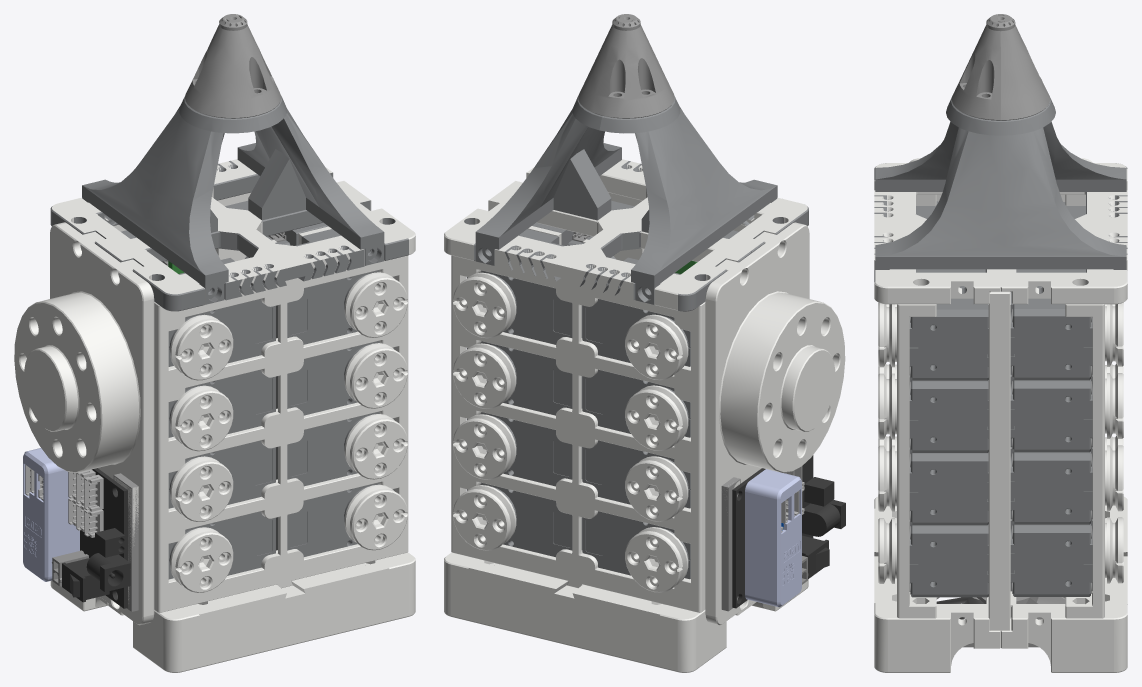
File: assembly-optimized.glb
3 renders of one model, left to right at view 1: azimuth 30°, elevation 25°; view 2: azimuth 150°, elevation 25°; view 3: azimuth 270°, elevation 25°, orthographic.
Visible parts, largest first — view 1: servos, franka_adapter_wu2d2, transition_frame_v4, front_plate, fan mount, SOLID, vertebra_base_v5; view 2: servos, franka_adapter_wu2d2, front_plate v2(Mirror), transition_frame_v4, fan mount, SOLID, vertebra_base_v5; view 3: servos, transition_frame_v4, fan mount, SOLID, vertebra_base_v5, front_plate, front_plate v2(Mirror), base_plate v8(Mirror), base_plate.
Boxes of the visible parts, <box> form: servos: <box>121,200,407,592</box>; franka_adapter_wu2d2: <box>14,222,154,625</box>; transition_frame_v4: <box>50,95,408,311</box>; front_plate: <box>154,255,408,612</box>; fan mount: <box>50,552,415,672</box>; SOLID: <box>52,159,415,303</box>; vertebra_base_v5: <box>185,14,281,118</box>; servos: <box>453,200,738,592</box>; franka_adapter_wu2d2: <box>705,222,845,625</box>; front_plate v2(Mirror): <box>451,255,705,612</box>; transition_frame_v4: <box>464,96,808,311</box>; fan mount: <box>444,552,808,672</box>; SOLID: <box>444,159,807,310</box>; vertebra_base_v5: <box>578,14,674,118</box>; servos: <box>878,201,1123,597</box>; transition_frame_v4: <box>874,97,1127,293</box>; fan mount: <box>874,496,1127,672</box>; SOLID: <box>874,163,1127,304</box>; vertebra_base_v5: <box>951,14,1050,120</box>; front_plate: <box>897,194,936,618</box>; front_plate v2(Mirror): <box>1065,194,1104,618</box>; base_plate v8(Mirror): <box>999,291,1010,630</box>; base_plate: <box>988,291,999,630</box>.
Size of the model in its own units: 0.134 by 0.2372 by 0.092.
